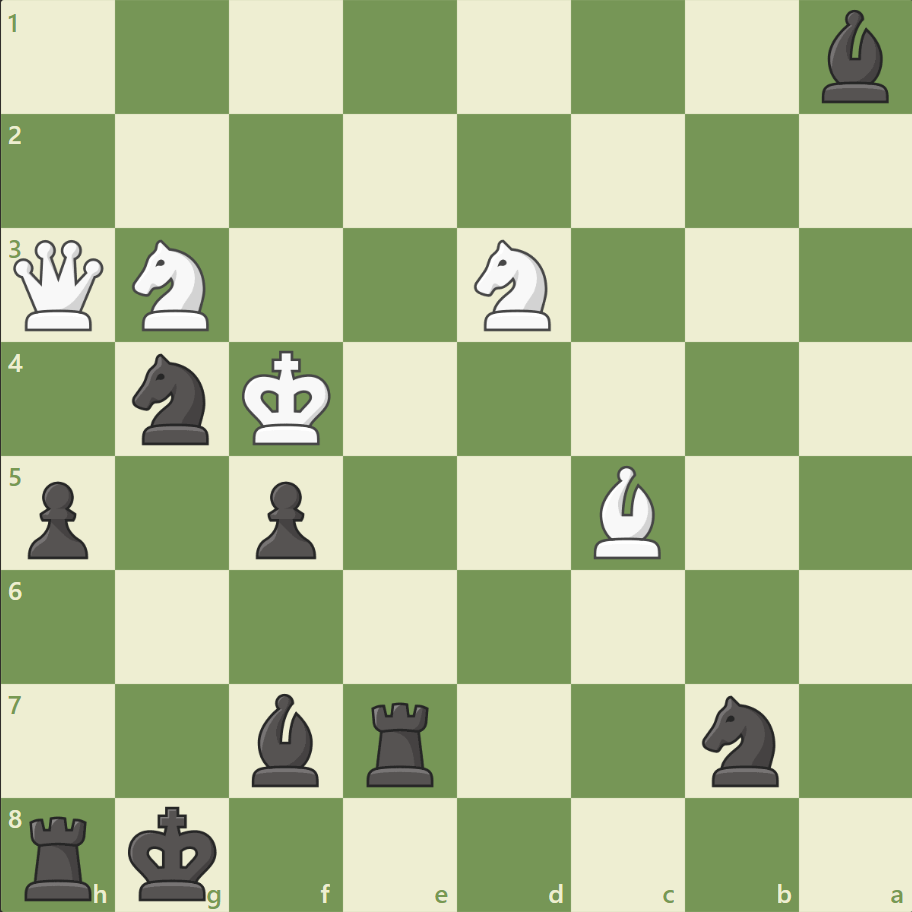B: (585, 460, 669, 563)
K: (238, 344, 338, 452)
N: (124, 234, 222, 337), (465, 234, 562, 337)
Q: (10, 236, 109, 335)
b: (244, 687, 328, 790), (812, 6, 896, 109)
k: (124, 798, 224, 906)
n: (124, 348, 222, 450), (692, 688, 789, 791)
p: (247, 473, 322, 564), (20, 473, 95, 564)
r: (19, 806, 102, 904), (360, 693, 442, 790)
